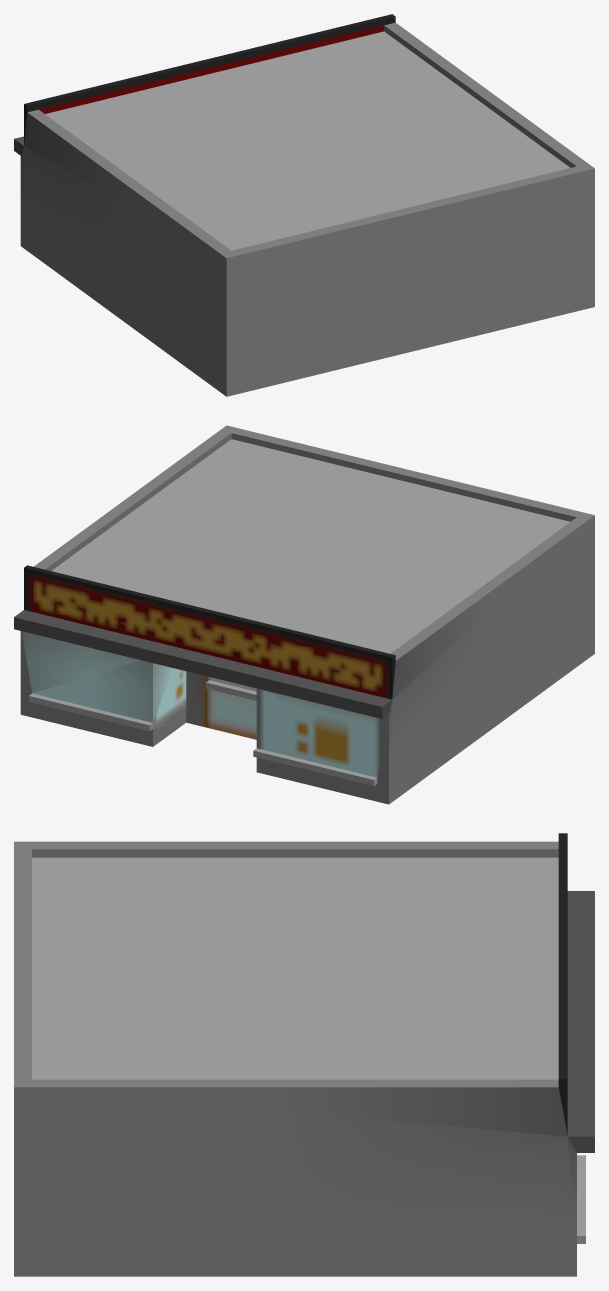
The model's file is obj_store01.fbx.
The picture shows the model from 3 angles, top to bottom: view 1: azimuth 30°, elevation 25°; view 2: azimuth 150°, elevation 25°; view 3: azimuth 270°, elevation 25°; orthographic projection. The views are drawn at different scales.
Visible parts, largest first — view 1: obj_store01; view 2: obj_store01; view 3: obj_store01.
Boxes of the visible parts, x1=… form: obj_store01: x1=14, y1=14, x2=594, y2=396; obj_store01: x1=14, y1=425, x2=594, y2=804; obj_store01: x1=14, y1=833, x2=594, y2=1276.
Size of the model in its own units: 6.4 by 6.4 by 2.4.
Materials: 1 (1 with a texture image).
